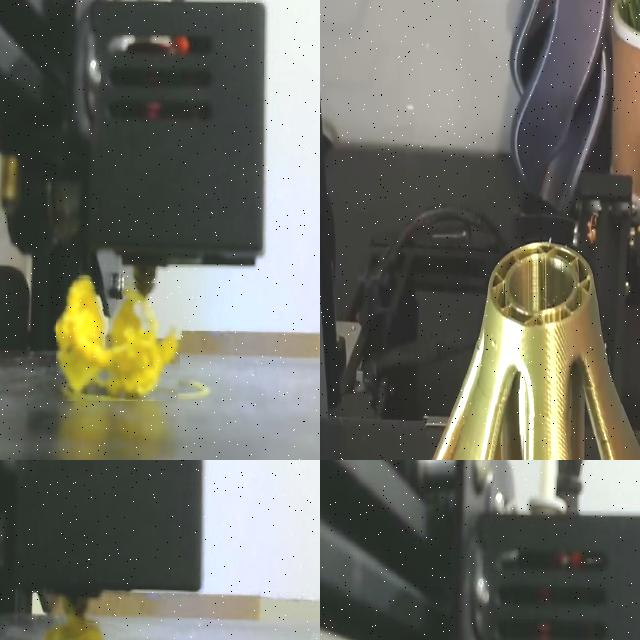spaghetti: (56, 276, 184, 401), (39, 619, 117, 640)
